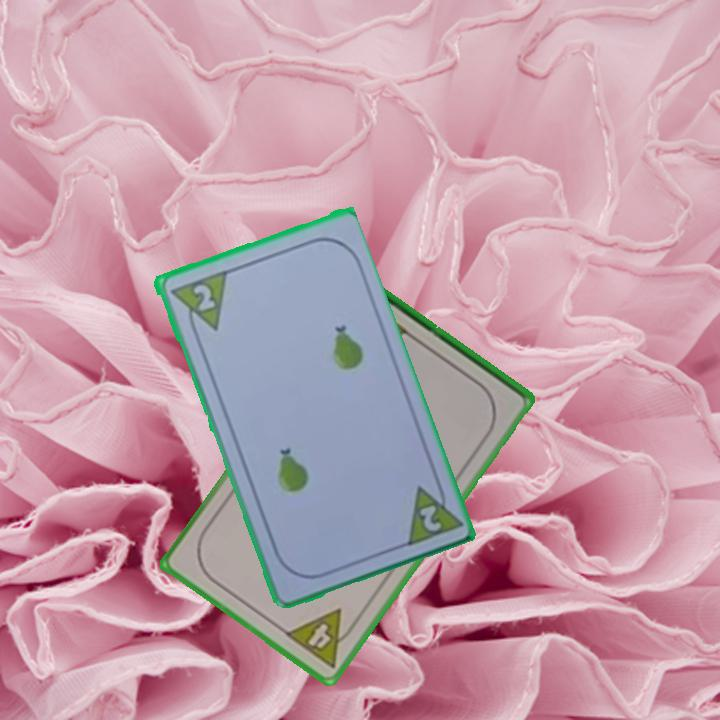2p: (400, 474, 463, 550), (165, 266, 229, 340)
4p: (281, 605, 361, 672)
